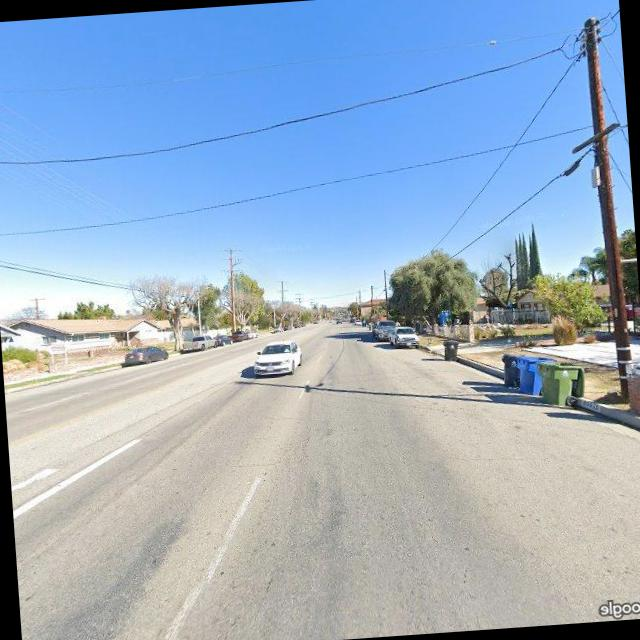crack: (296, 422, 316, 463)
